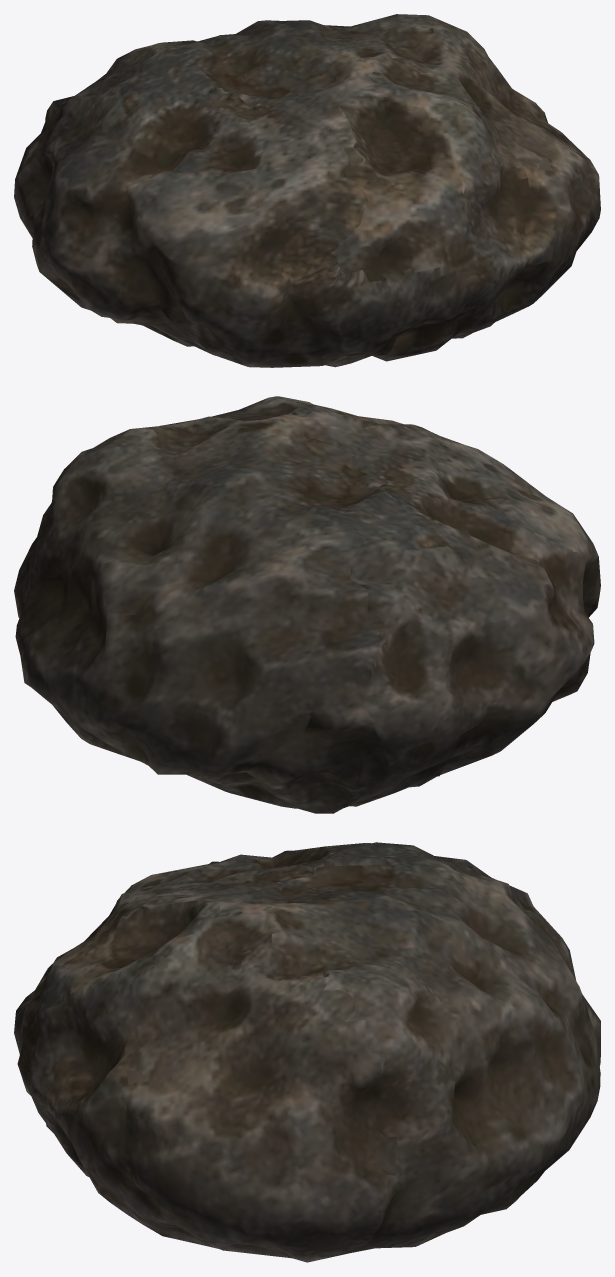
Rendered from asteroid_common_3_lod2.glb.
3 renders of one model, top to bottom at view 1: azimuth 30°, elevation 25°; view 2: azimuth 150°, elevation 25°; view 3: azimuth 270°, elevation 25°, orthographic. The views are drawn at different scales.
Parts seen in each view (by area): view 1: model; view 2: model; view 3: model.
Boxes of the visible parts, x1,y1,x2,y2 form: model: (14, 14, 600, 367); model: (14, 396, 600, 813); model: (14, 842, 600, 1262).
Bounding box in the file's own units: 1.89 × 0.9696 × 1.69.
Materials: 1 (1 with a texture image).
